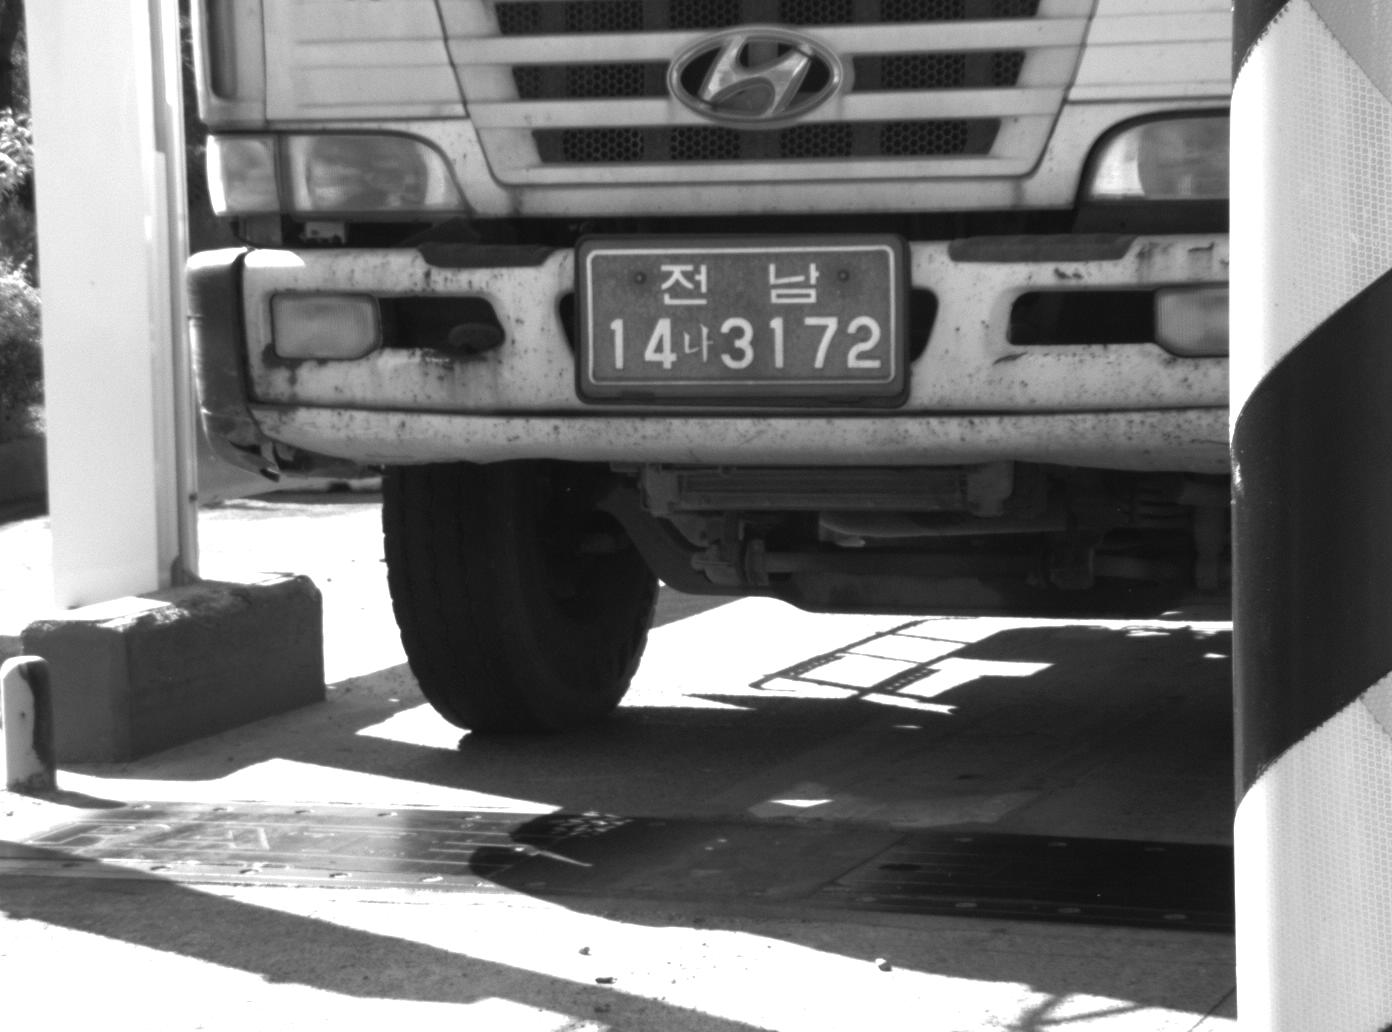car: (178, 1, 1228, 733)
plate: (571, 228, 914, 404)
